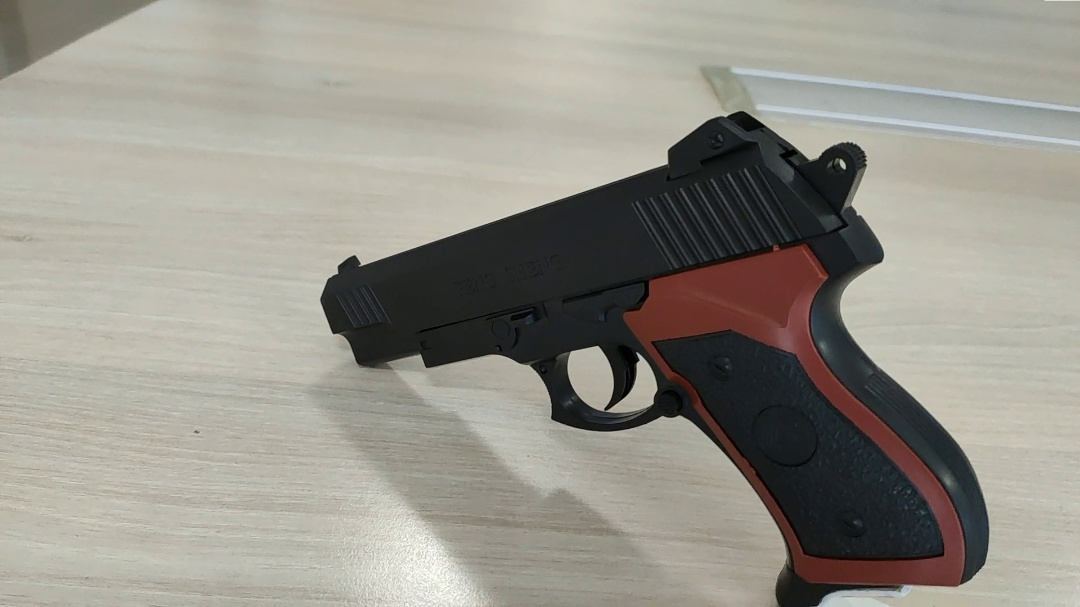gun: (310, 104, 1000, 607)
